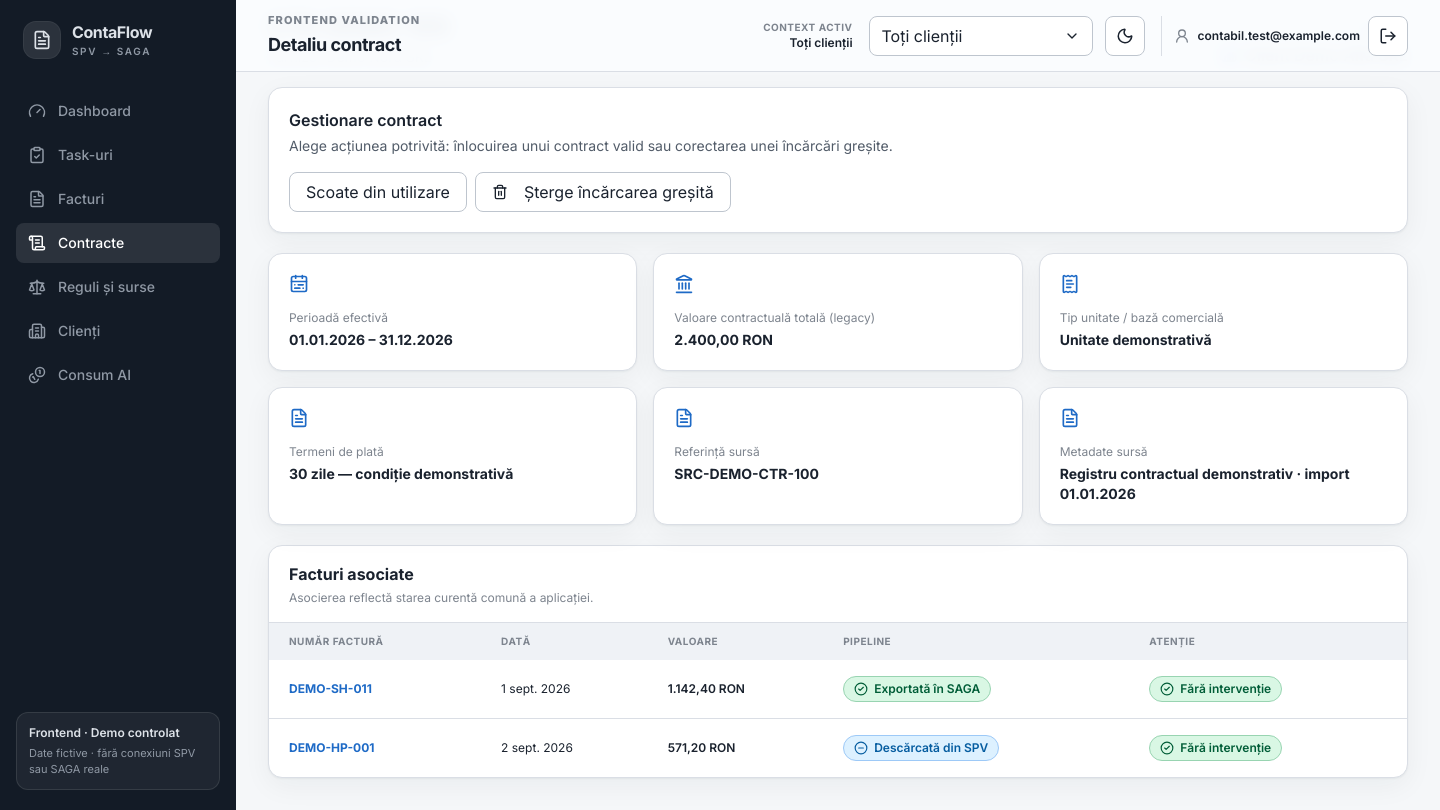
Test: Contracts workspace › renders approved contract detail fields and associated invoices navigate to Invoice Detail
(page scrolled)
Expected: the heading "CTR-DEMO-100" is shown, [268,11,448,43]
Expected: the text "Perioadă efectivă" is shown, [289,310,388,325]
Click the link "DEMO-SH-011": (330, 689) [289,681,372,696]
(page scrolled)
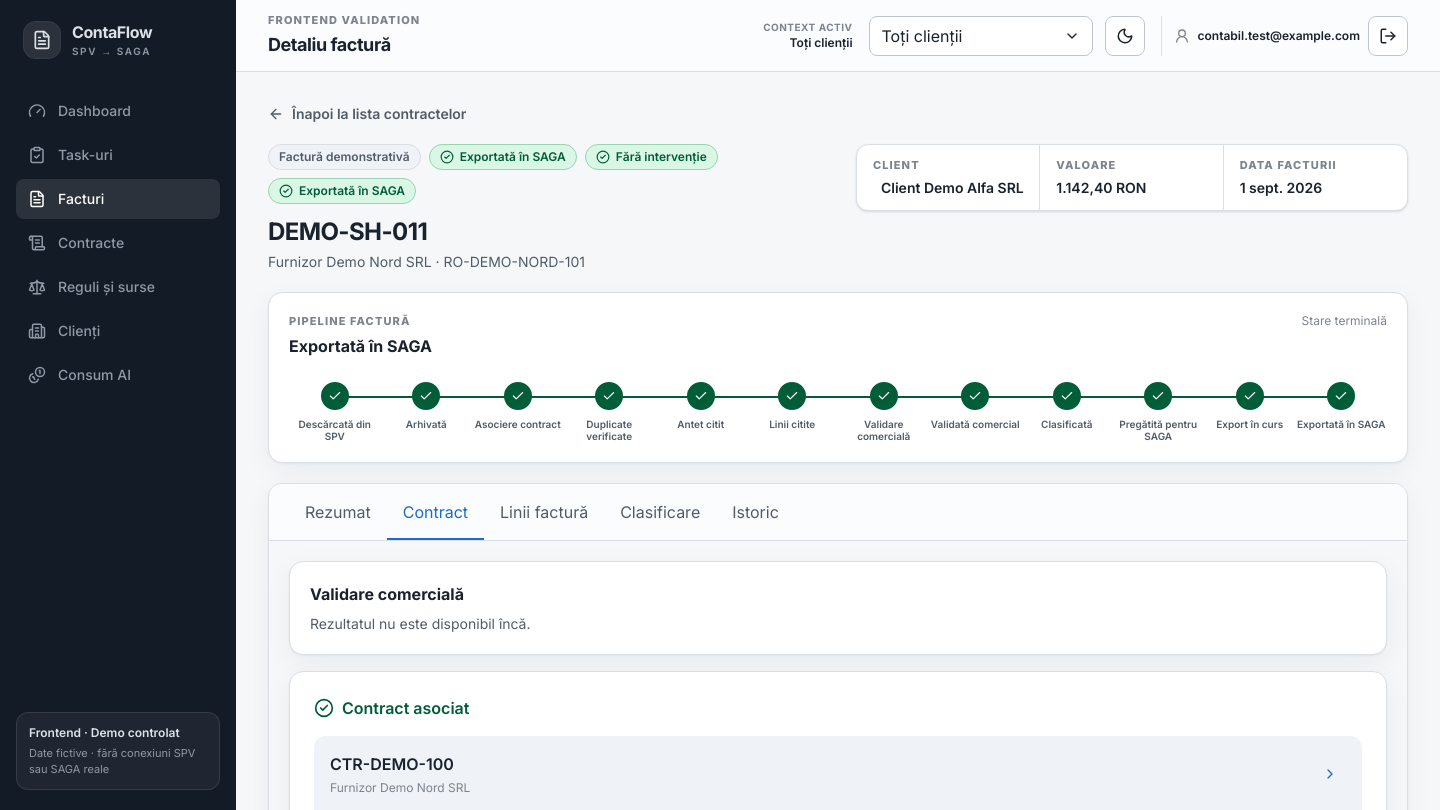
Expected: the link "Înapoi la lista contractelor" is shown, [268,104,466,124]
Now the heading "DEMO-SH-011" is shown, box [268,217,427,246]
